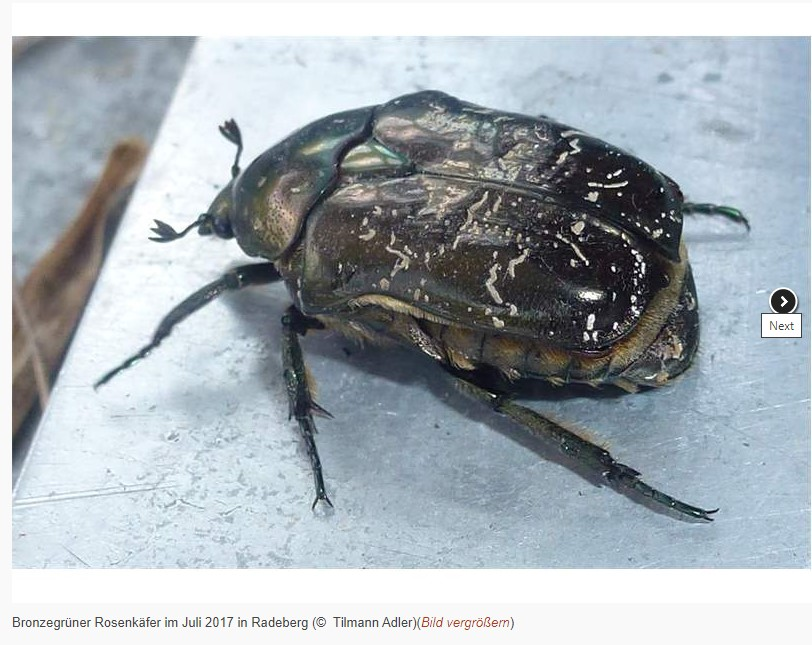Protaetia_lugubris: (84, 80, 750, 535)
